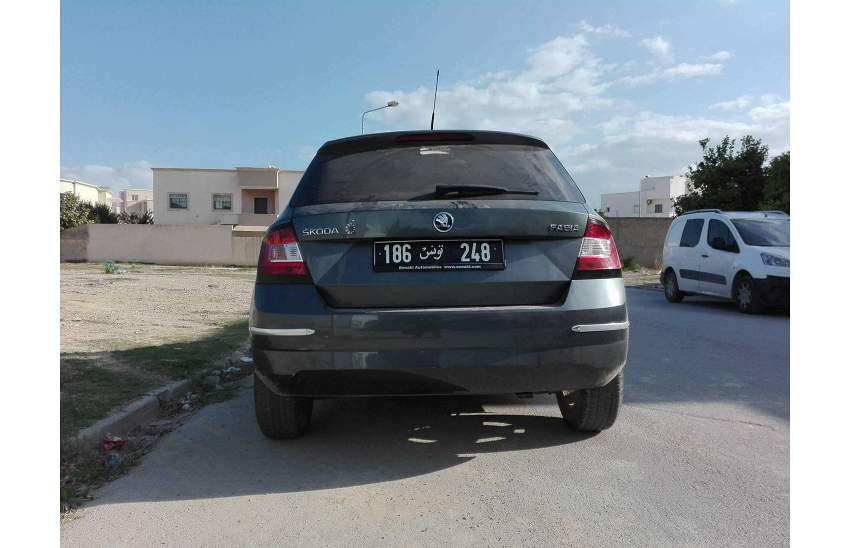LP: (370, 236, 507, 268)
